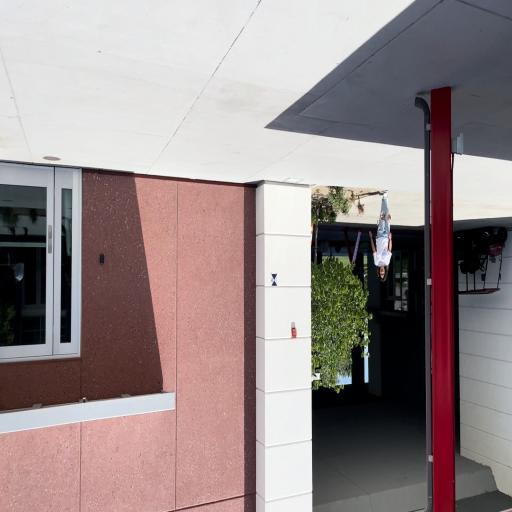target9: (271, 272, 278, 286)
